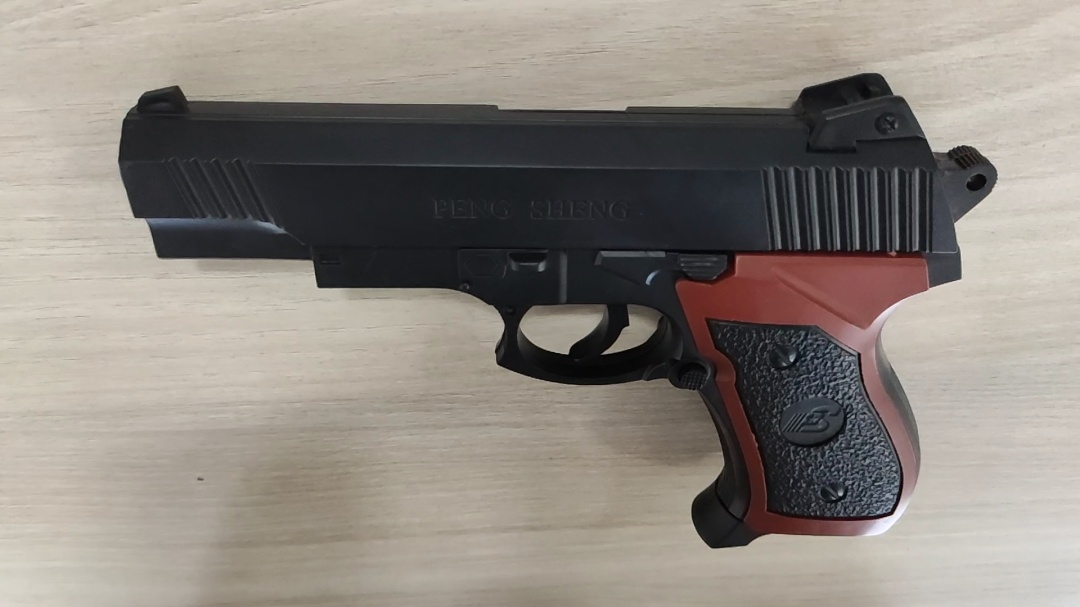gun: (112, 71, 998, 548)
